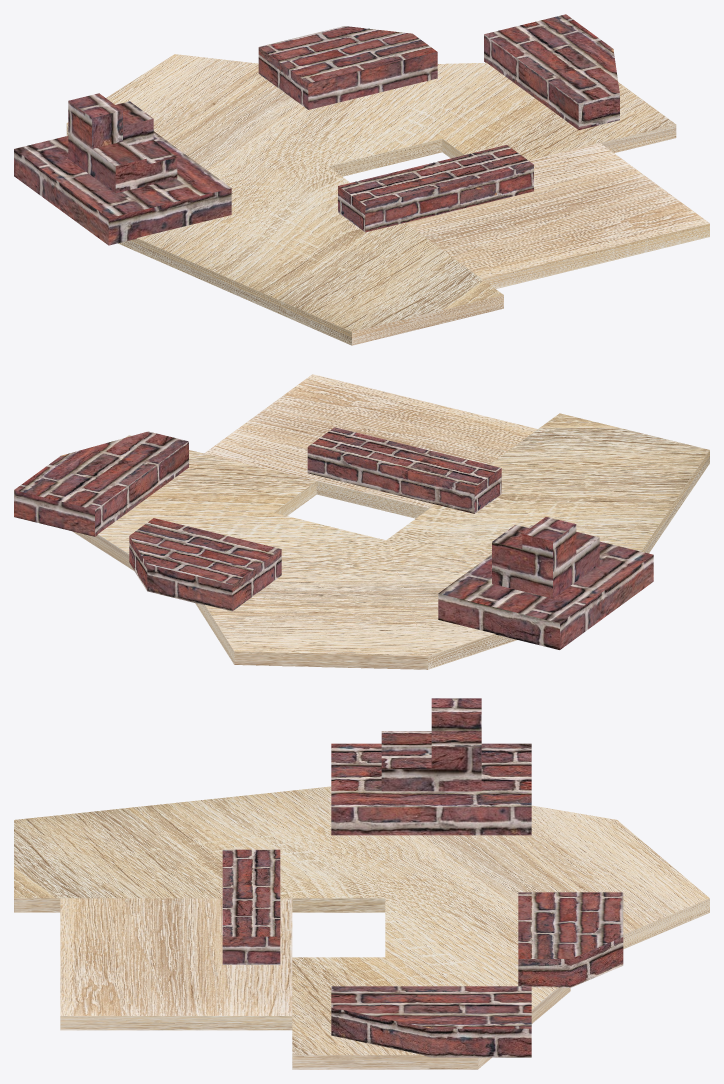
3 renders of one model, top to bottom at view 1: azimuth 30°, elevation 25°; view 2: azimuth 150°, elevation 25°; view 3: azimuth 270°, elevation 25°, orthographic. The views are drawn at different scales.
Parts seen in each view (by area): view 1: Floor, Cube.004, Cube.001, Cube.003, Cube.002; view 2: Floor, Cube.004, Cube.003, Cube.001, Cube.002; view 3: Floor, Cube.004, Cube.003, Cube.001, Cube.002.
Part boxes in pixels (x1,y1,x2,y2): Floor: (66,54,709,345); Cube.004: (14,93,231,245); Cube.001: (258,26,437,109); Cube.003: (484,14,619,129); Cube.002: (338,145,533,232); Floor: (72,374,709,669); Cube.004: (438,517,653,649); Cube.003: (14,431,188,536); Cube.001: (129,518,281,611); Cube.002: (307,427,501,513); Floor: (14,786,709,1069); Cube.004: (331,698,531,835); Cube.003: (331,986,531,1057); Cube.001: (518,892,623,987); Cube.002: (222,849,280,964).
Size of the model in its own units: 42.34 by 7.2 by 43.71.
2 materials, 2 textured.
